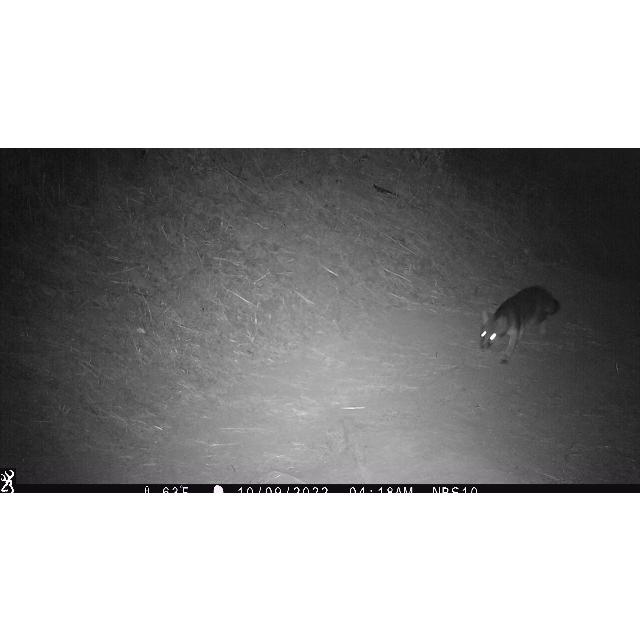animals: (477, 284, 561, 366)
